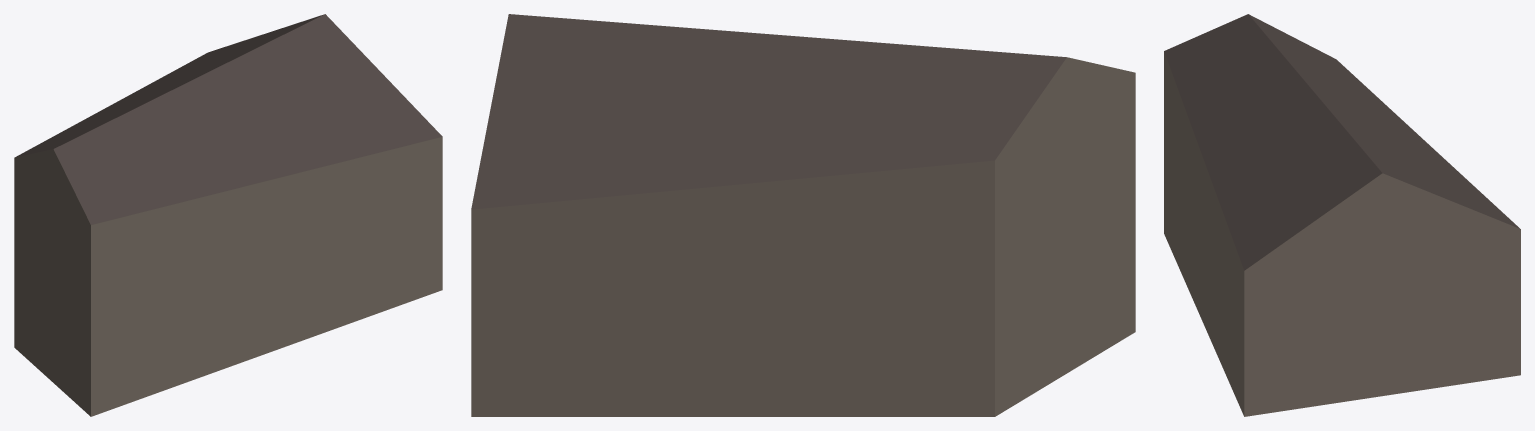
3 renders of one model, left to right at view 1: azimuth 30°, elevation 25°; view 2: azimuth 150°, elevation 25°; view 3: azimuth 270°, elevation 25°, orthographic. The views are drawn at different scales.
Visible parts, largest first — view 1: HP-w369342495; view 2: HP-w369342495; view 3: HP-w369342495.
Part boxes in pixels (<box>): HP-w369342495: <box>14,14,442,416</box>; HP-w369342495: <box>471,14,1135,416</box>; HP-w369342495: <box>1164,14,1520,416</box>.
Size of the model in its own units: 24.2 by 13.73 by 19.92.
